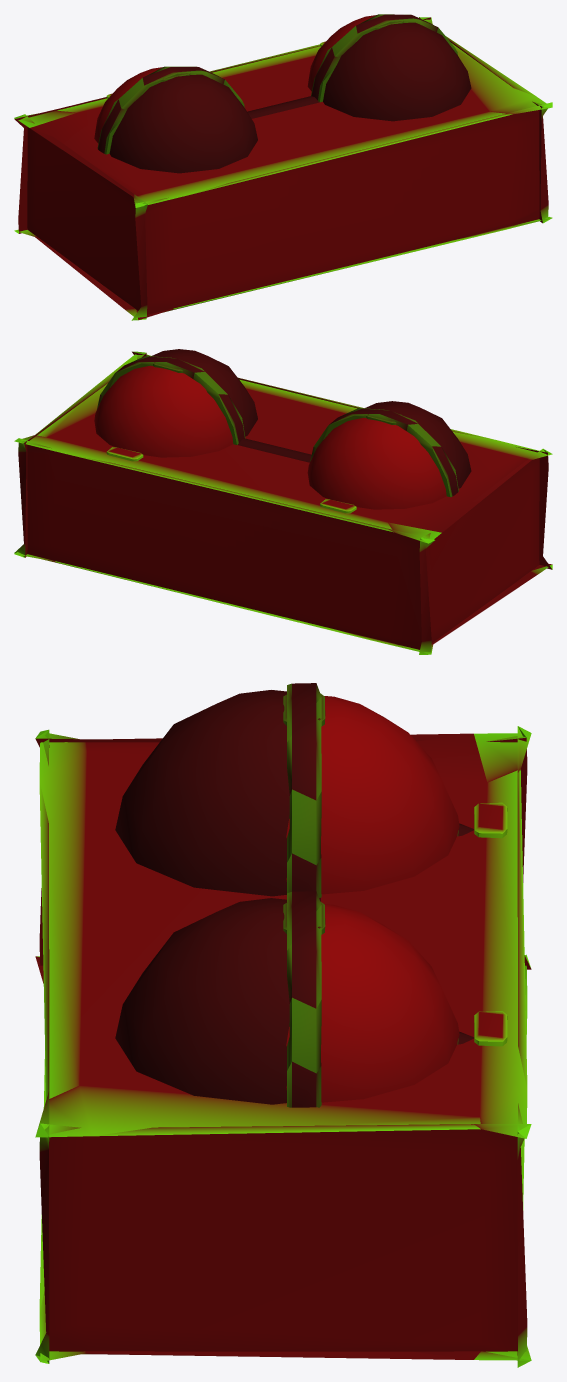
The model's file is RCLModule_gravitas_breaker_cryogenic_fuel_shroud.fbx.
3 renders of one model, top to bottom at view 1: azimuth 30°, elevation 25°; view 2: azimuth 150°, elevation 25°; view 3: azimuth 270°, elevation 25°, orthographic. The views are drawn at different scales.
Parts seen in each view (by area): view 1: RCLModule_gravitas_breaker_cryogenic_fuel_shroud_Batch_RCLMo (×3); view 2: RCLModule_gravitas_breaker_cryogenic_fuel_shroud_Batch_RCLMo (×3); view 3: RCLModule_gravitas_breaker_cryogenic_fuel_shroud_Batch_RCLMo (×3).
Part boxes in pixels (x1,y1,x2,y2): RCLModule_gravitas_breaker_cryogenic_fuel_shroud_Batch_RCLMo (×3): [14, 14, 552, 320]; RCLModule_gravitas_breaker_cryogenic_fuel_shroud_Batch_RCLMo (×3): [14, 349, 552, 654]; RCLModule_gravitas_breaker_cryogenic_fuel_shroud_Batch_RCLMo (×3): [35, 683, 531, 1367].
Size of the model in its own units: 70.34 by 28.71 by 35.9.
